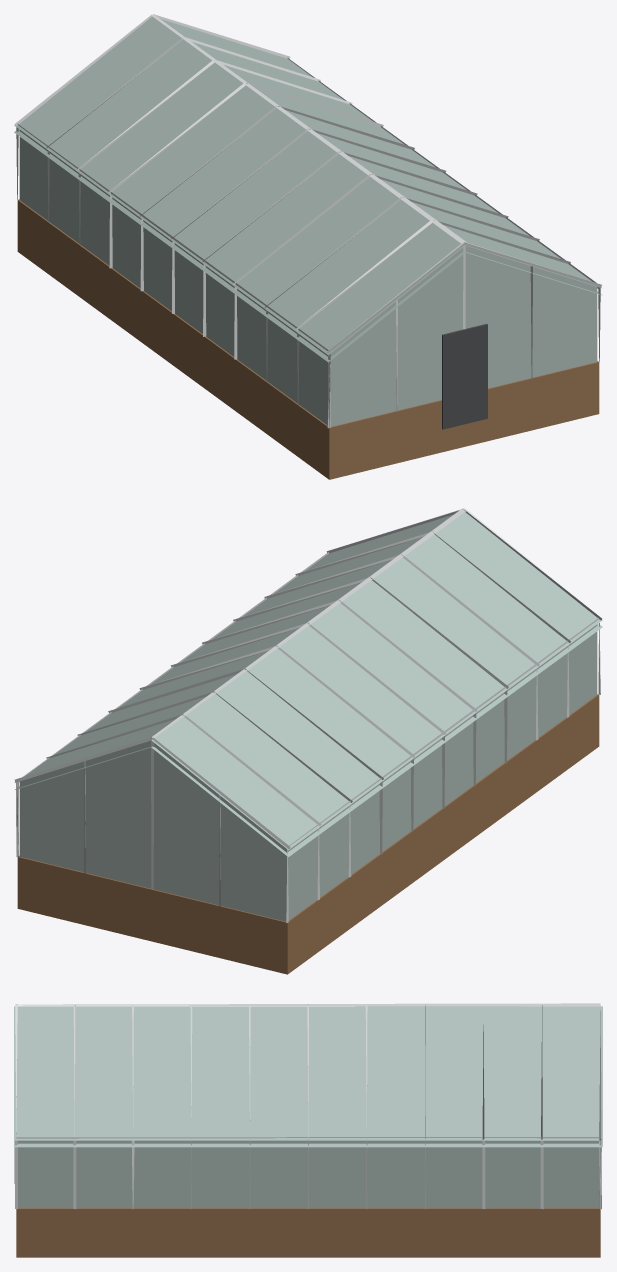
The model's file is greenhouse-lod1.glb.
3 views of the same model, one above another, from view 1: azimuth 30°, elevation 25°; view 2: azimuth 150°, elevation 25°; view 3: azimuth 270°, elevation 25° (orthographic). The views are drawn at different scales.
Visible parts, largest first — view 1: greenhouse-door.001; view 2: greenhouse-door.001; view 3: greenhouse-door.001.
Part boxes in pixels (<box>): greenhouse-door.001: <box>14,14,602,479</box>; greenhouse-door.001: <box>14,508,602,974</box>; greenhouse-door.001: <box>14,1003,602,1257</box>.
Size of the model in its own units: 6.13 by 4.34 by 12.1.
